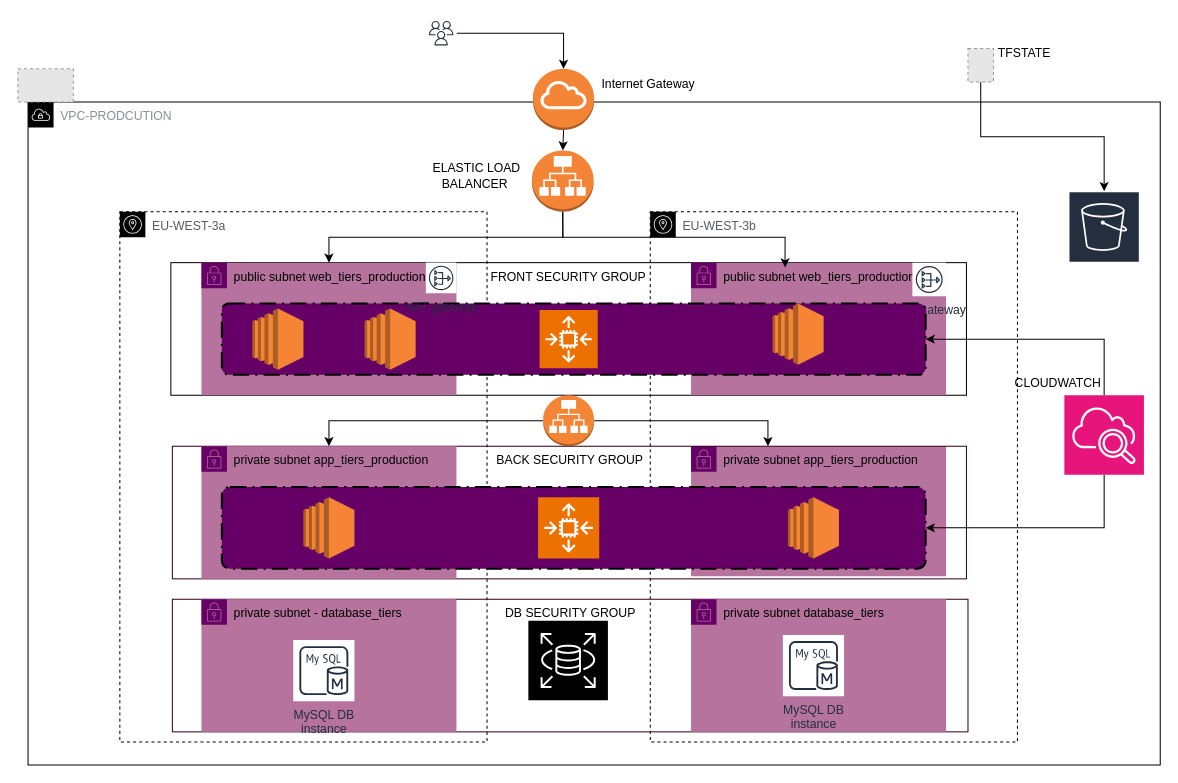
Some shapes in this 1178 by 783 pixel diagram are drawn without their labels. Grey dashed boxes stand in for pictures. Each missing label, with the centre of its shape:
"Amazon RDS" belongs at (x=567, y=670).
"Amazon S3" belongs at (x=1103, y=234).
"Users" belongs at (x=440, y=32).
